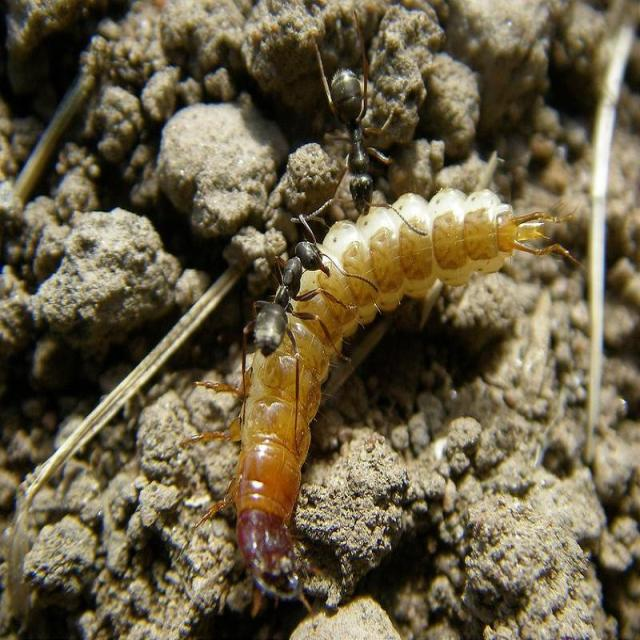grub: (235, 173, 541, 599)
